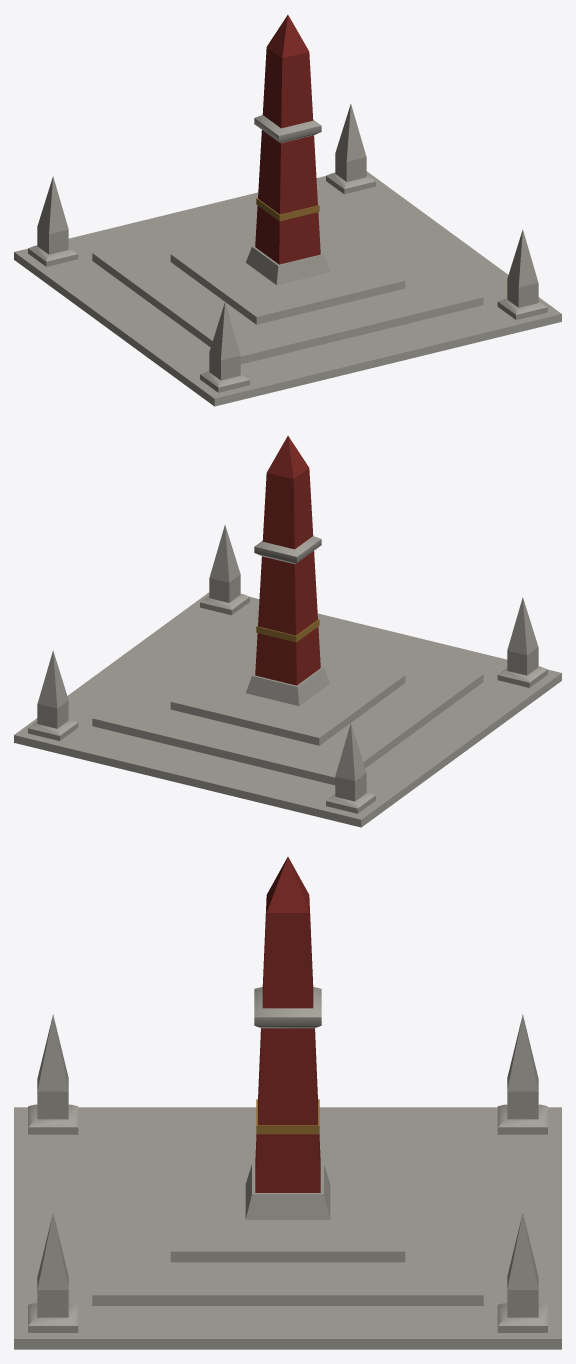
Rendered from Monument4.fbx.
The picture shows the model from 3 angles, top to bottom: view 1: azimuth 30°, elevation 25°; view 2: azimuth 150°, elevation 25°; view 3: azimuth 270°, elevation 25°; orthographic projection. The views are drawn at different scales.
Visible parts, largest first — view 1: Monument4; view 2: Monument4; view 3: Monument4.
Boxes of the visible parts, x1,y1,x2,y2 form: Monument4: (14,15,561,406); Monument4: (14,436,561,827); Monument4: (14,857,561,1349).
Size of the model in its own units: 7 by 5.32 by 7.
